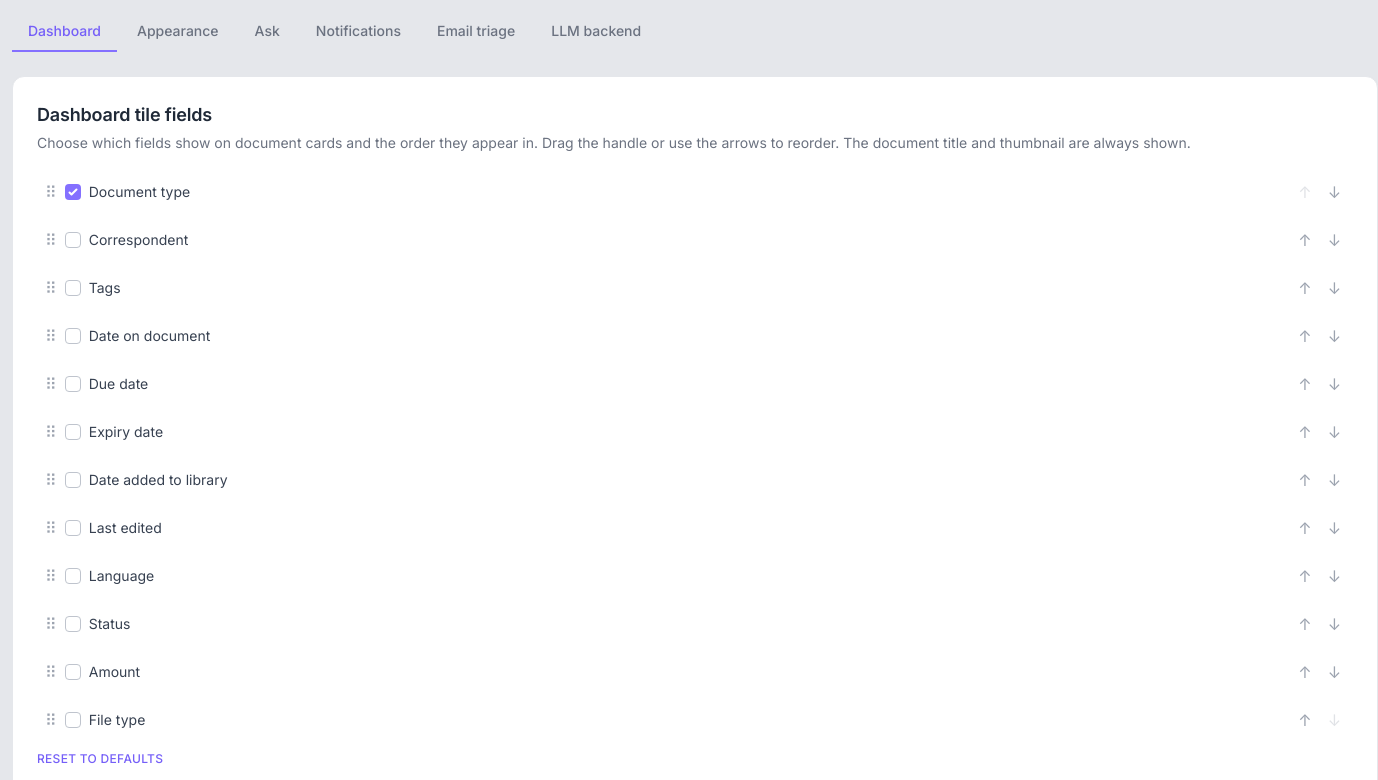
Test: SettingsView — LLM backend tab › reports a load failure instead of rendering an empty tab
Click the tab with test id "tab-llm-backend-btn". click: click(596, 32)
box: x1=535 y1=12 x2=657 y2=52
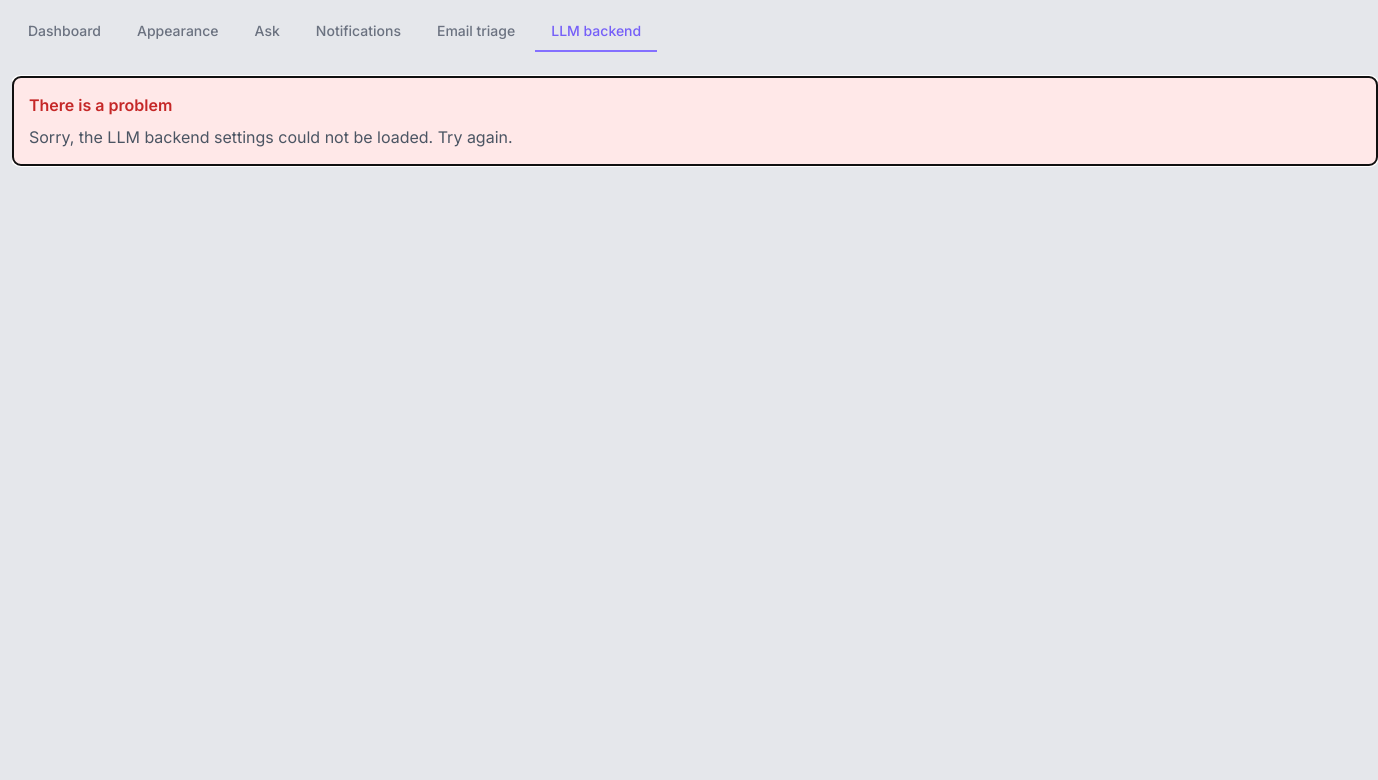
Check: the message with test id "llm-backend-error" is shown, box x1=12 y1=76 x2=1377 y2=166
